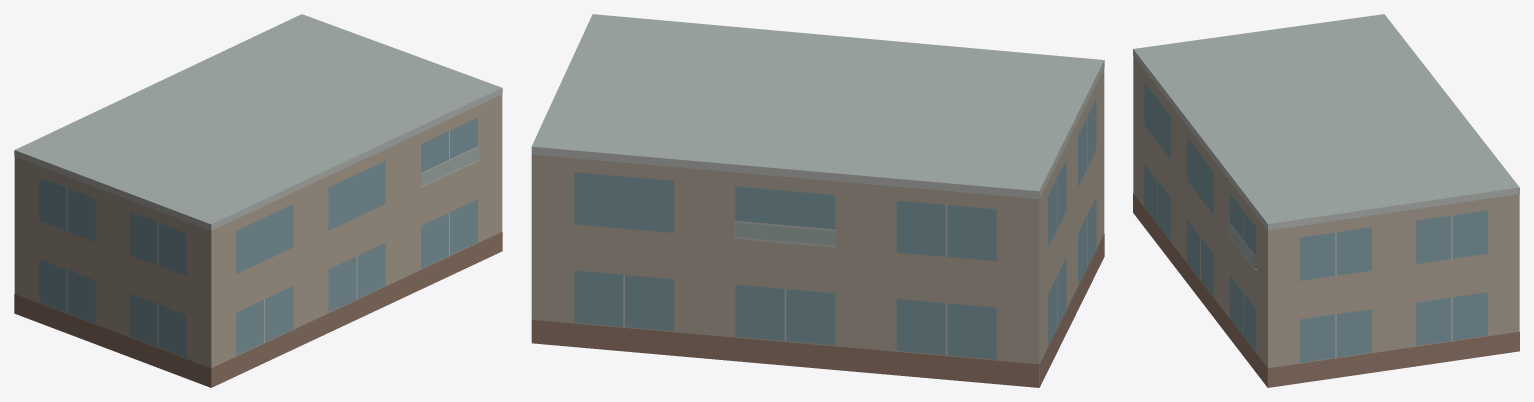
Rendered from survey-upis-32784844.glb.
The picture shows the model from 3 angles, left to right: view 1: azimuth 30°, elevation 25°; view 2: azimuth 150°, elevation 25°; view 3: azimuth 270°, elevation 25°; orthographic projection. The views are drawn at different scales.
Parts seen in each view (by area): view 1: survey-upis-32784844.tmp; view 2: survey-upis-32784844.tmp; view 3: survey-upis-32784844.tmp.
Part boxes in pixels (x1,y1,x2,y2): survey-upis-32784844.tmp: (14, 14, 502, 387); survey-upis-32784844.tmp: (531, 14, 1104, 387); survey-upis-32784844.tmp: (1133, 14, 1519, 387).
Size of the model in its own units: 16.79 by 6.1 by 13.06.
